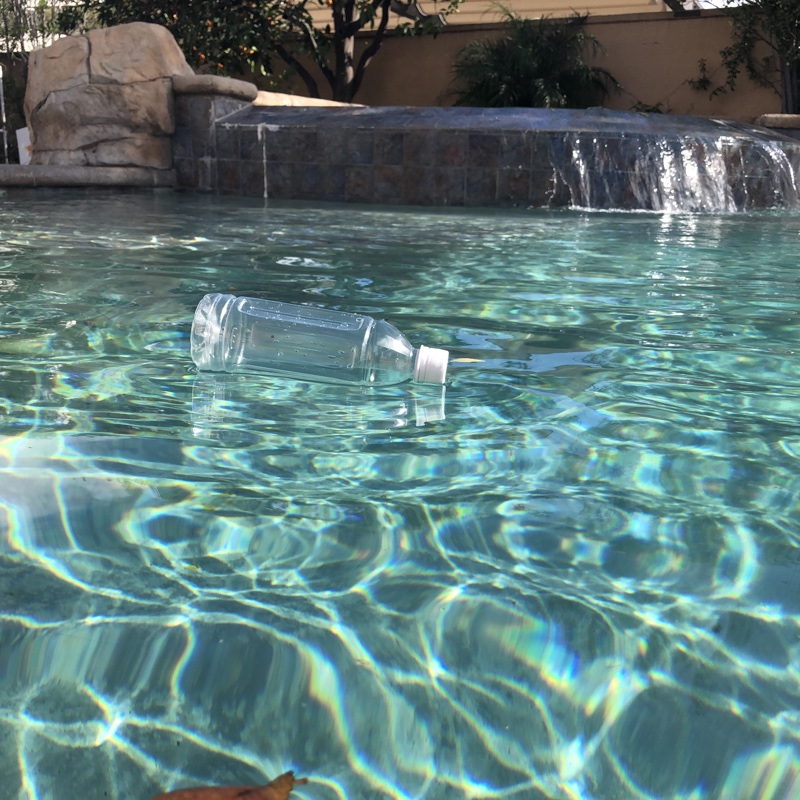Plastic Bottle: (186, 280, 455, 396)
